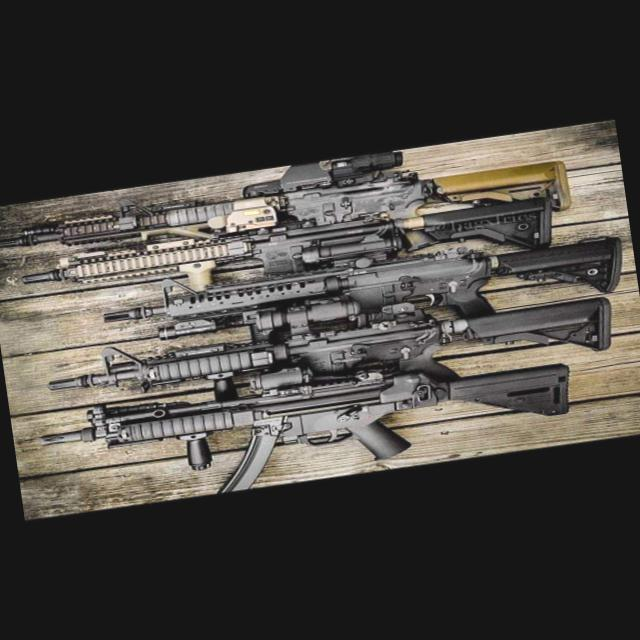long weapon: (0, 119, 589, 304), (24, 337, 639, 508), (37, 272, 624, 440), (14, 186, 582, 322), (92, 220, 627, 364)
